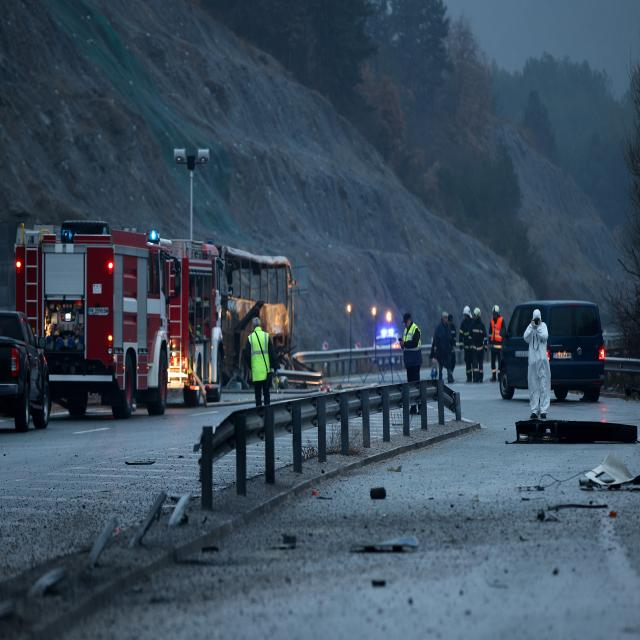Accident: (0, 216, 326, 425)
